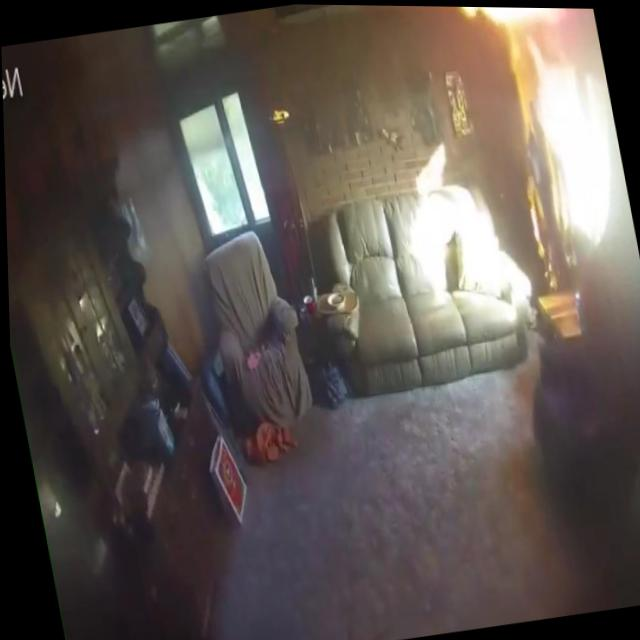fire: (493, 37, 569, 286), (443, 5, 572, 44)
